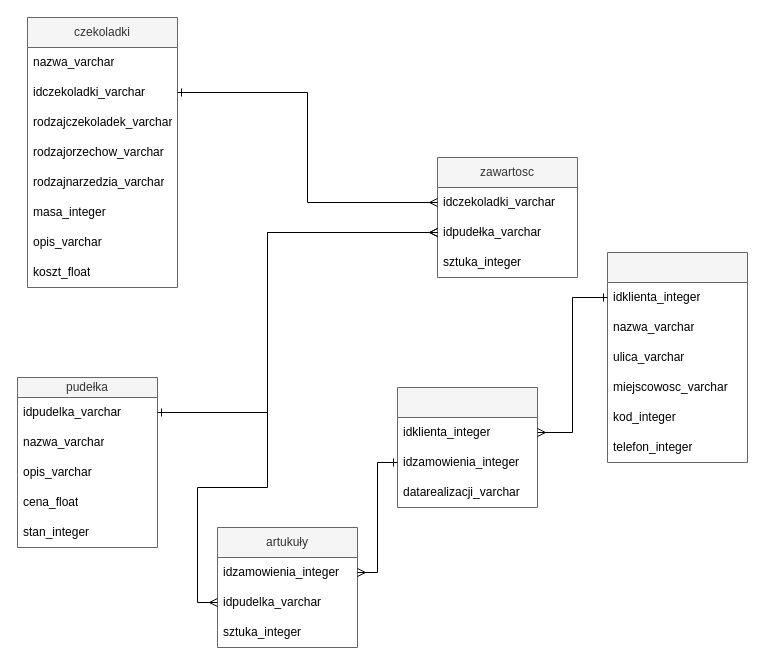
Some shapes in this 765 by 665 pixel diagram are drawn without their labels. The shapes that lost their labels are listed below. From the top down, each one's box as (x1, y1, x2, y2) in pixels, then its label:
(606, 252, 748, 462): klienci
(396, 386, 538, 508): zamowienie
